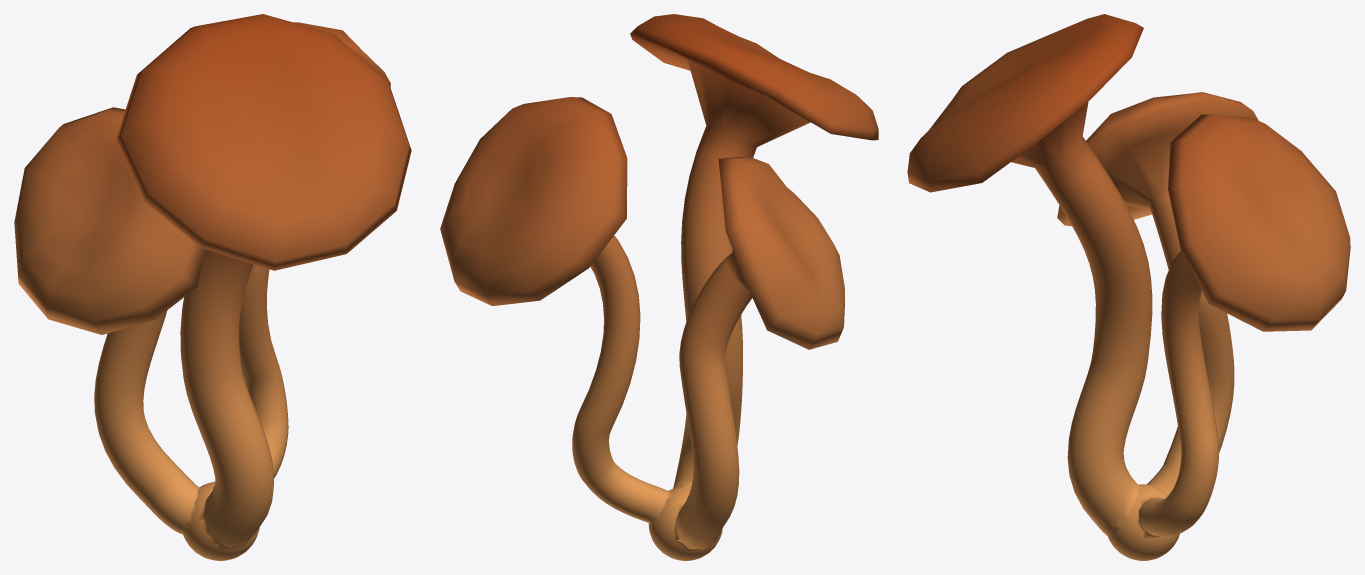
Rendered from JackMush.glb.
3 renders of one model, left to right at view 1: azimuth 30°, elevation 25°; view 2: azimuth 150°, elevation 25°; view 3: azimuth 270°, elevation 25°, orthographic. The views are drawn at different scales.
Visible parts, largest first — view 1: Sphere; view 2: Sphere; view 3: Sphere.
Boxes of the visible parts, box(x1,y1,x2,y2) form: Sphere: box(14, 14, 411, 560); Sphere: box(440, 14, 878, 560); Sphere: box(907, 14, 1350, 560).
Size of the model in its own units: 8.65 by 12.09 by 9.21.
1 material, 1 textured.
